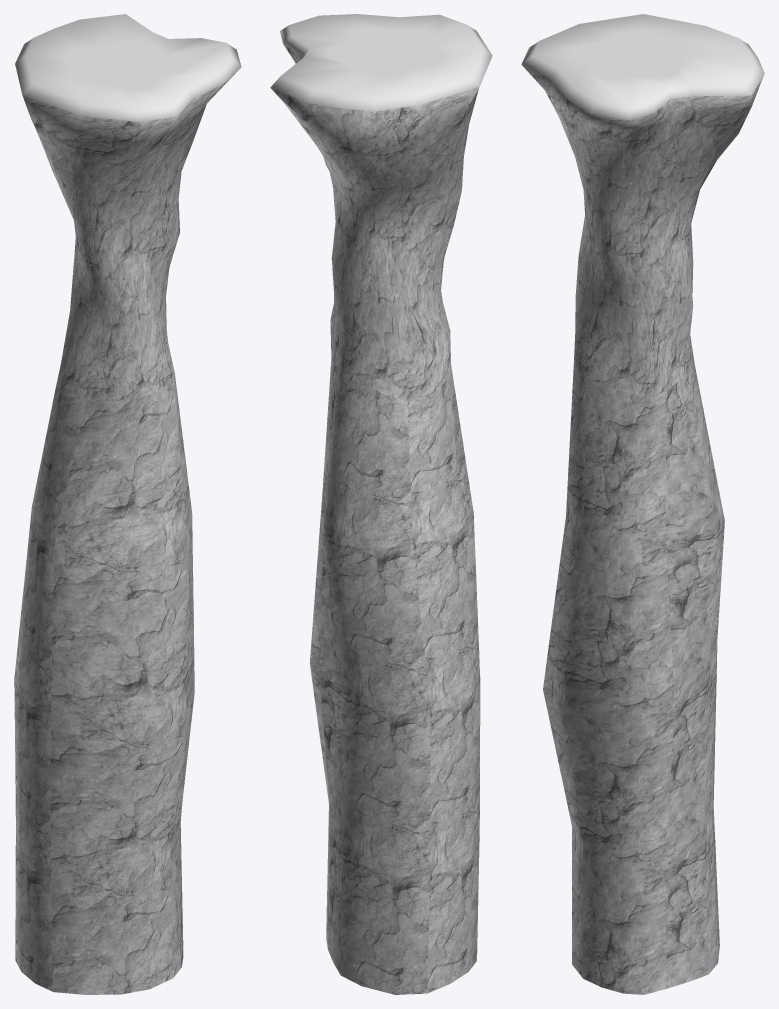
The model's file is Clif_New_02.fbx.
3 views of the same model, side by side, from view 1: azimuth 30°, elevation 25°; view 2: azimuth 150°, elevation 25°; view 3: azimuth 270°, elevation 25° (orthographic).
Parts seen in each view (by area): view 1: Clif_New_02; view 2: Clif_New_02; view 3: Clif_New_02.
Boxes of the visible parts, box(x1,y1,x2,y2) form: Clif_New_02: box(14, 14, 241, 994); Clif_New_02: box(270, 14, 492, 994); Clif_New_02: box(521, 14, 764, 994).
Bounding box in the file's own units: 17464 × 72709 × 17547.
